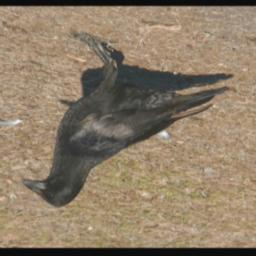Crow: (26, 31, 232, 210)
